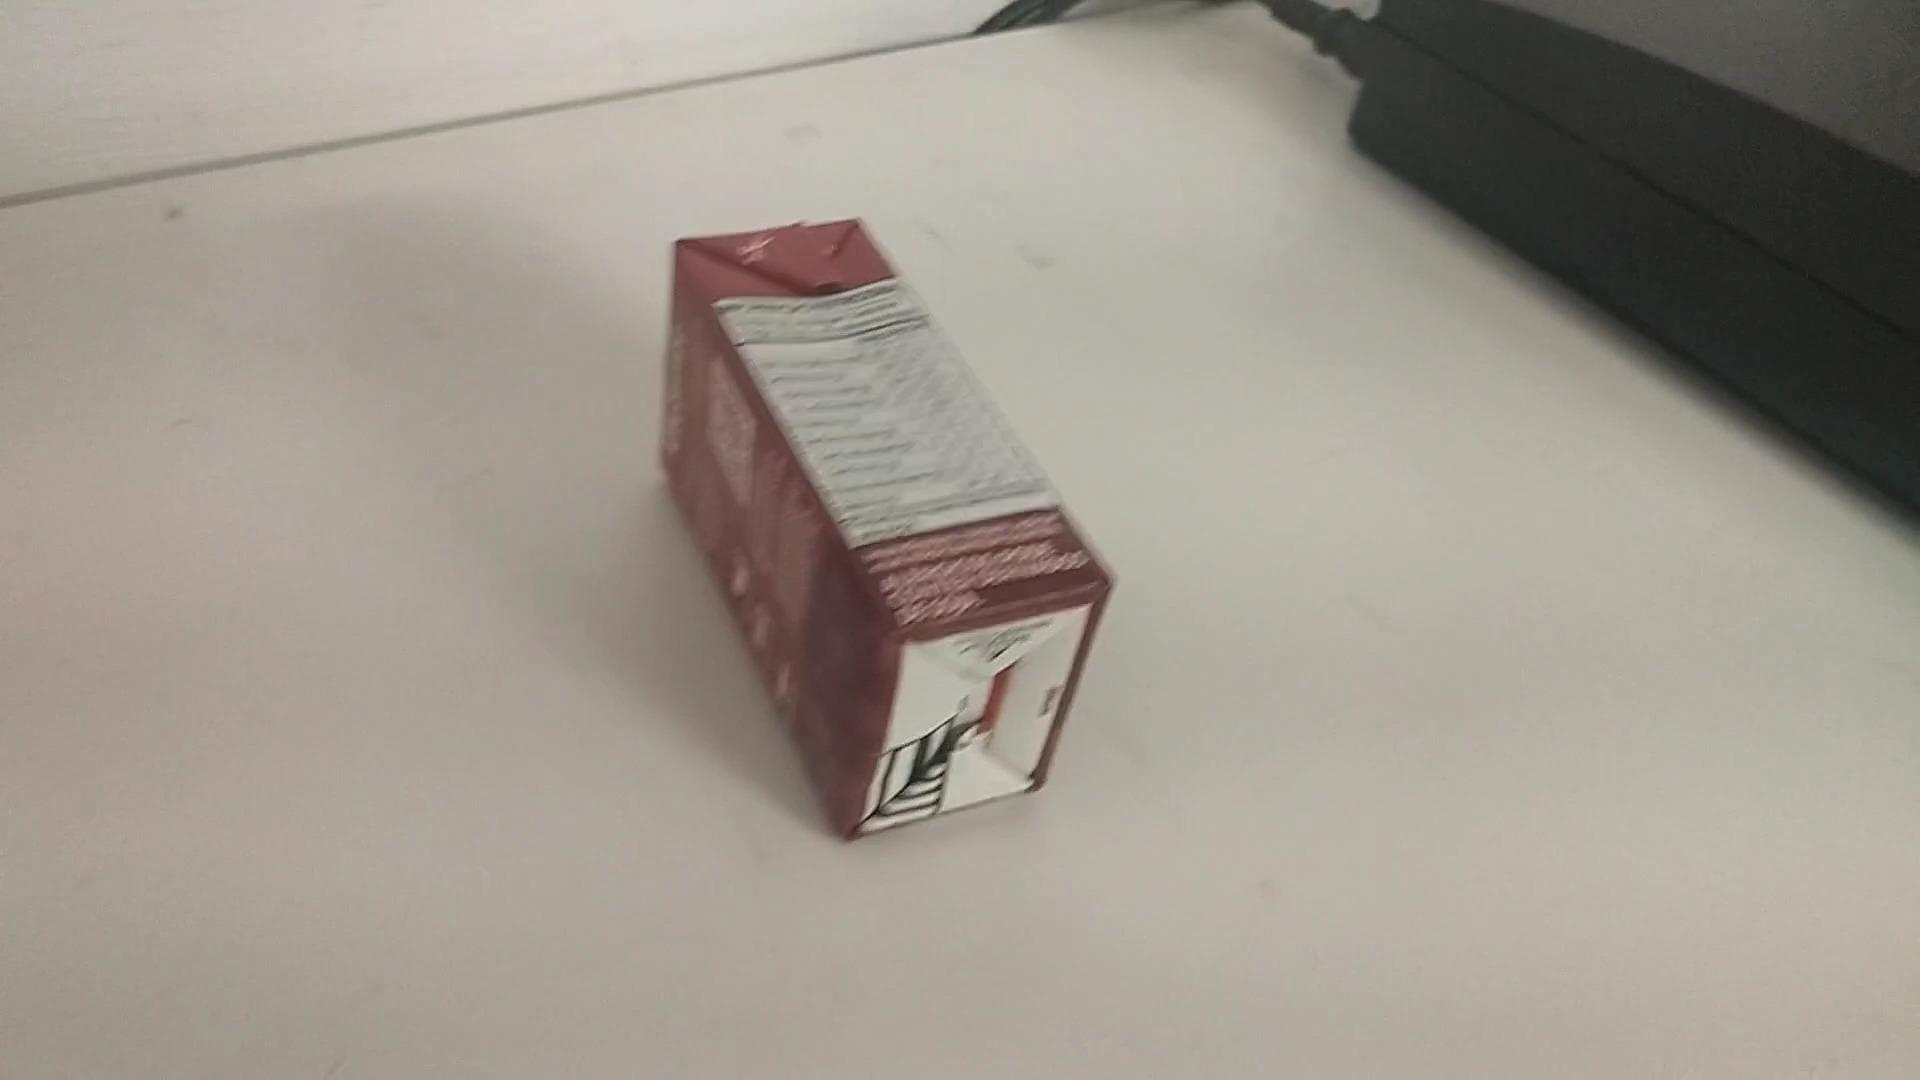tomate: (658, 218, 1122, 848)
